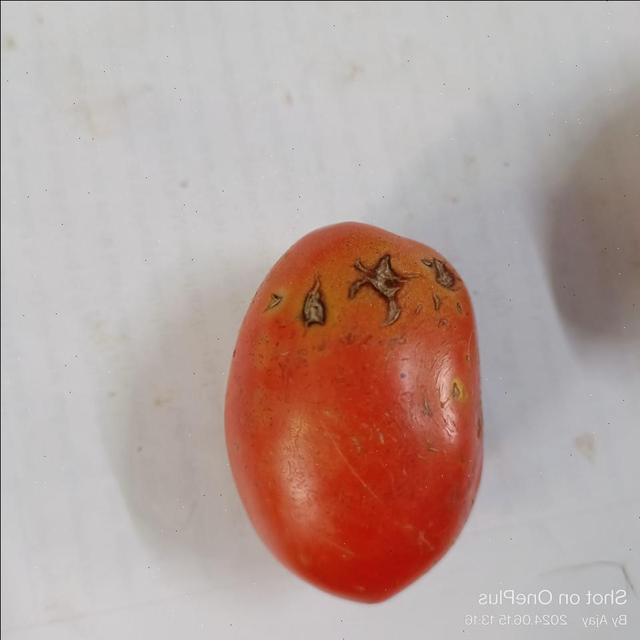Bacterial Spot Fruit: (12, 15, 291, 200)
